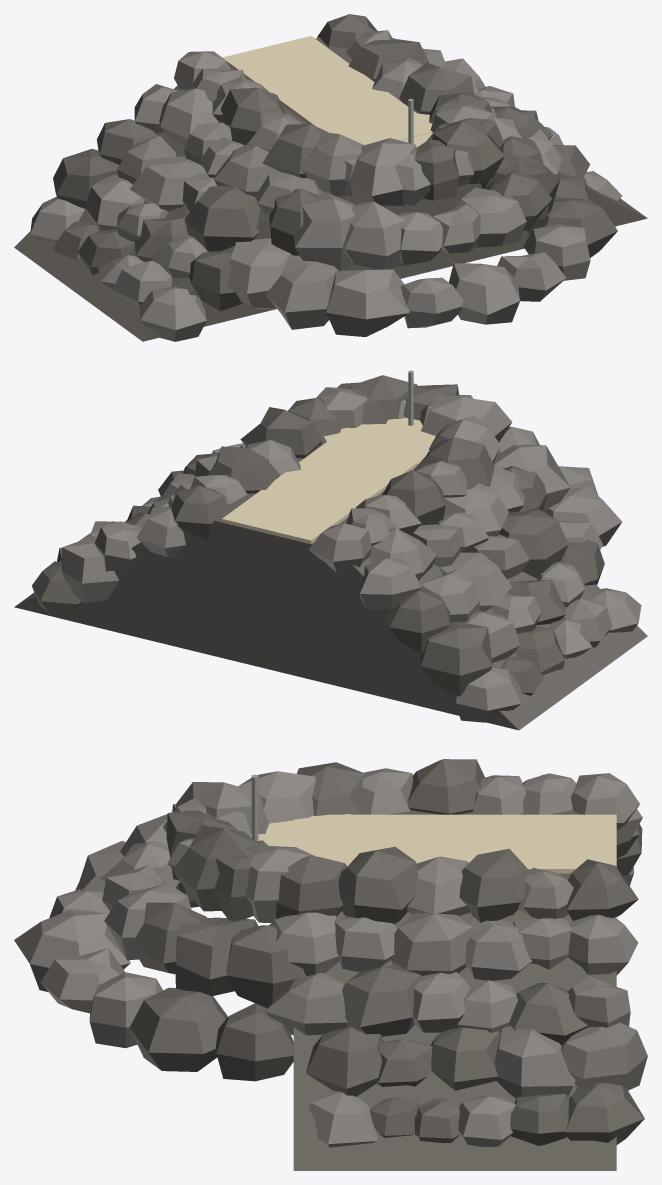
The model's file is groyne_head.glb.
3 views of the same model, one above another, from view 1: azimuth 30°, elevation 25°; view 2: azimuth 150°, elevation 25°; view 3: azimuth 270°, elevation 25° (orthographic). The views are drawn at different scales.
Visible parts, largest first — view 1: GroyneHead; view 2: GroyneHead; view 3: GroyneHead.
Part boxes in pixels (bbox=[...]): GroyneHead: bbox=[14, 14, 647, 341]; GroyneHead: bbox=[14, 370, 647, 730]; GroyneHead: bbox=[14, 759, 647, 1170].
Size of the model in its own units: 11.32 by 4.34 by 9.81.
